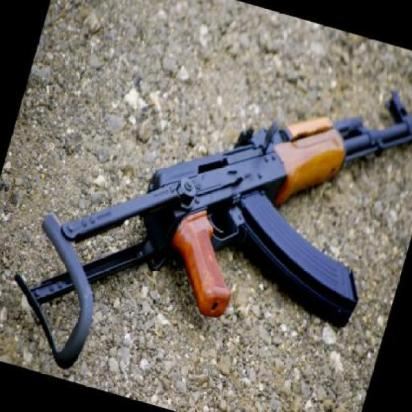Gun: (16, 87, 406, 369)
